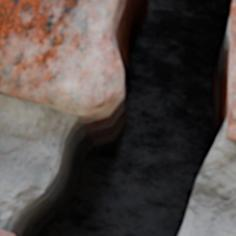broken_brick: (0, 0, 120, 115), (227, 49, 235, 142), (234, 3, 235, 26)
crack: (1, 0, 235, 235)
